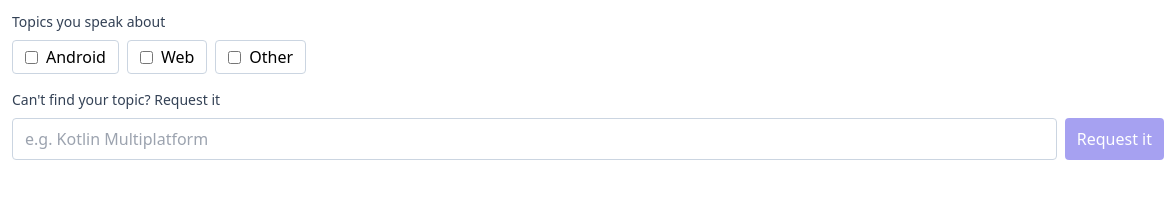
Test: TopicSelector › submits a trimmed, lowercased tag request when signed in
Type "  Kotlin Multiplatform  " into the field labelled "Can't find your topic? Request it".
click(534, 139); type("  Kotlin Multiplatform  ")  # box [12, 118, 1057, 160]
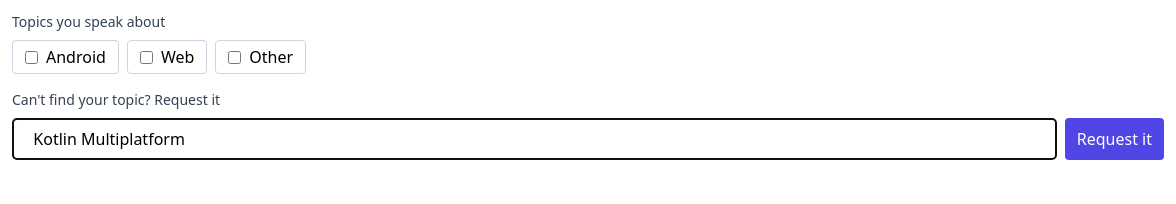
Click the button "Request it".
click(1114, 139)  # box [1065, 118, 1164, 160]
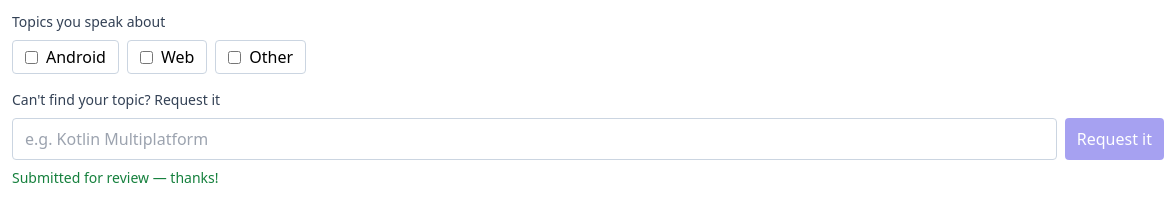
Expected: the text "Submitted for review — thanks!" is shown, [12, 168, 218, 187]
